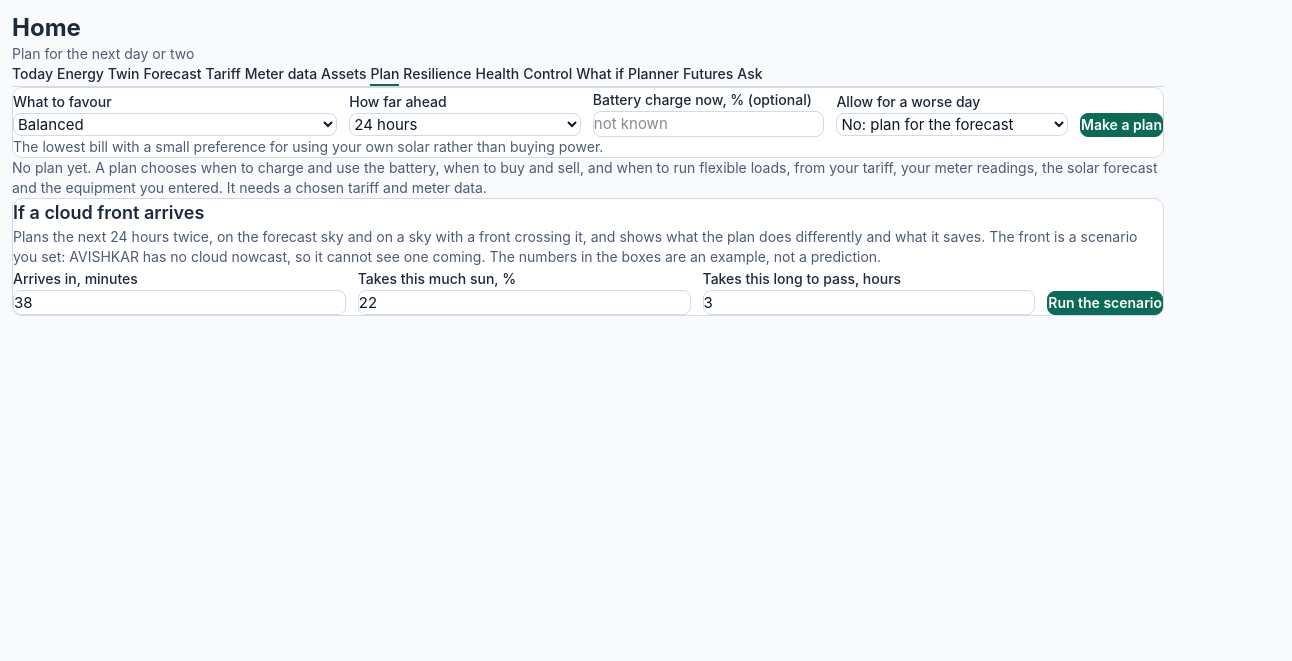
PlanView › sends no battery charge when none is given
Expected: the text "No plan yet" is shown, [12,158,1158,196]
Click the button "Make a plan" at (1122, 125), box [1080,113,1163,136]
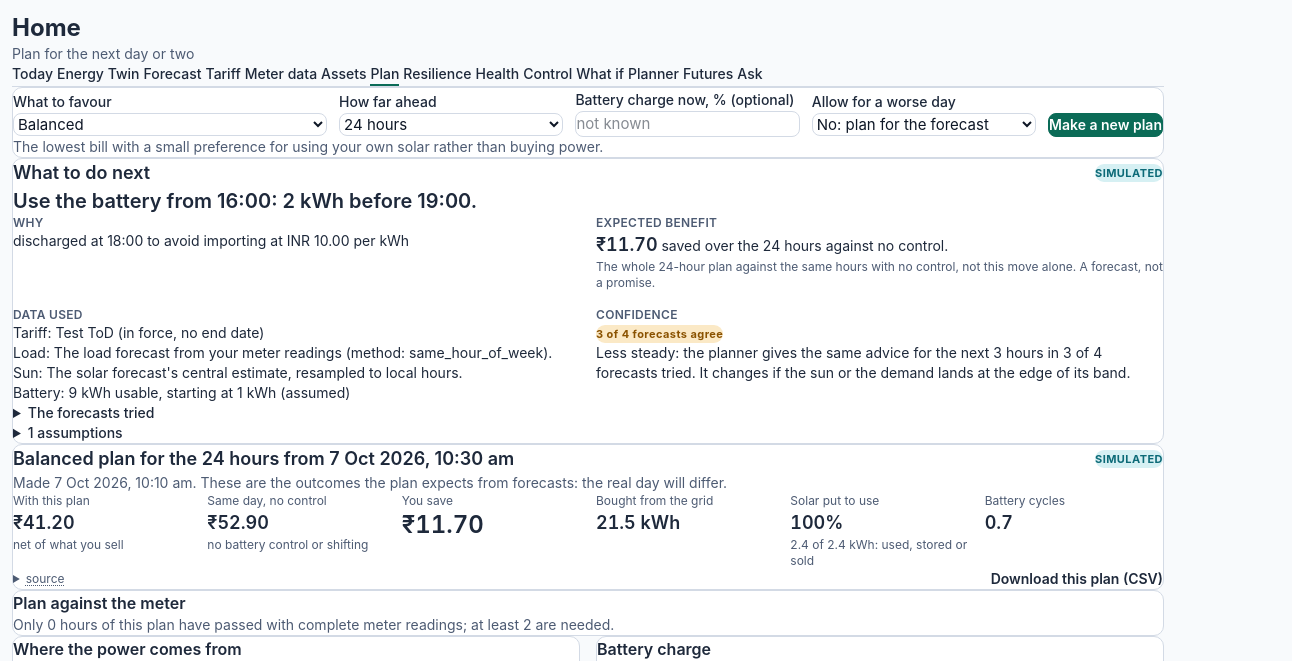
Now the element named "Plan outcome" is shown, box [12,444,1164,590]
